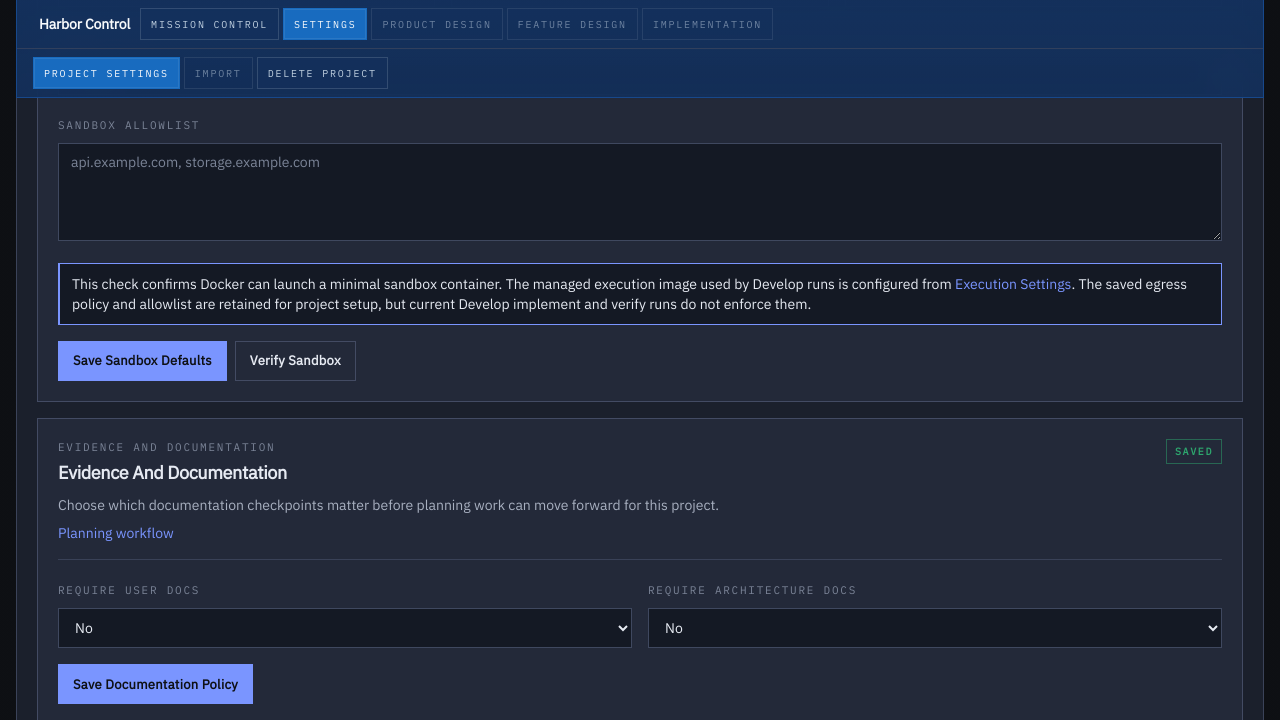
Test case: project setup page › completes setup only after the required checks pass and then unlocks later sections
(page scrolled)
Click the button "Verify Sandbox": point(295, 361) [235, 341, 356, 381]
(page scrolled)
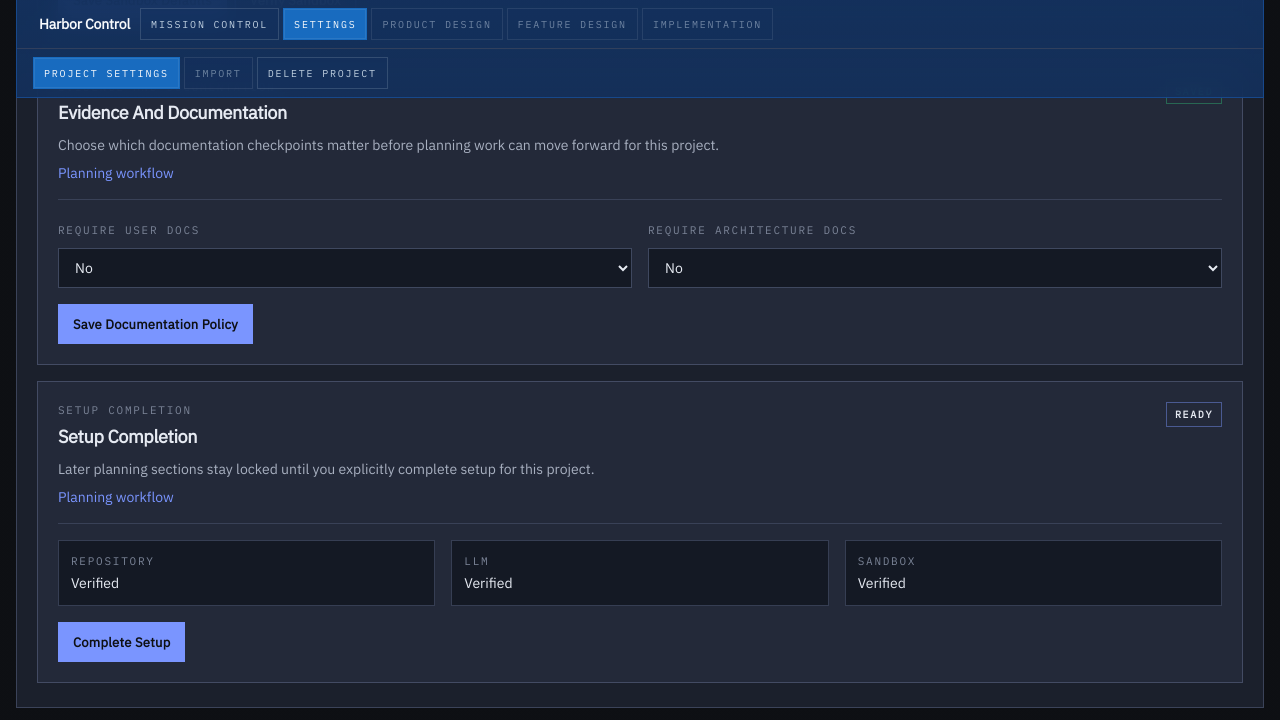
Expected: the button "Complete Setup" is enabled
Click the button "Complete Setup": point(122, 642) [58, 622, 186, 662]
(page scrolled)
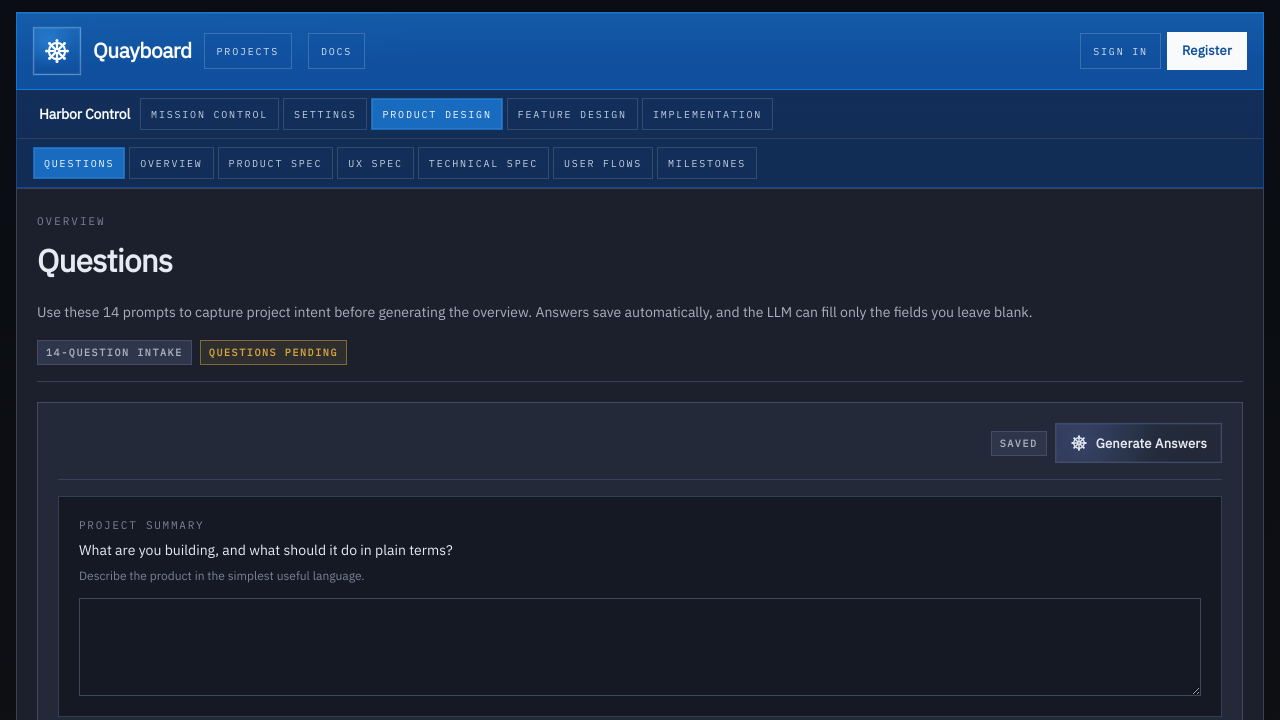
Expected: the heading "Questions" is shown, [37, 240, 172, 280]
Expected: the text "Use these 14 prompts to capture project intent before generating the overview. Answers save automatically, and the LLM c" is shown, [37, 303, 1032, 321]
